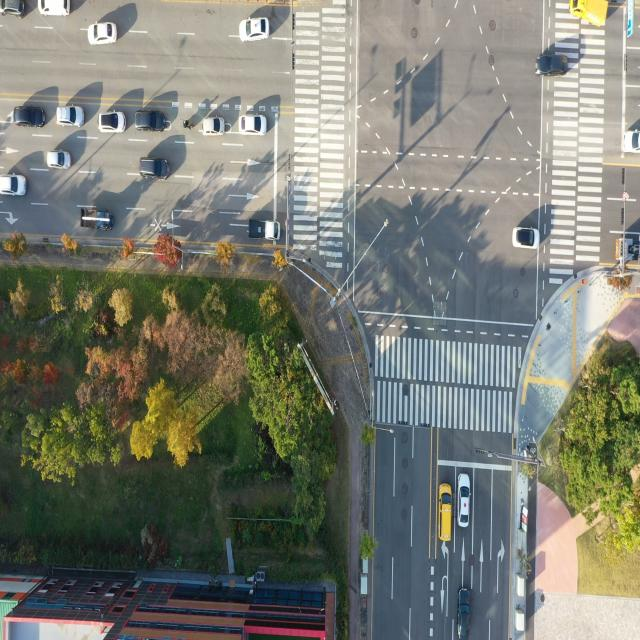car: (434, 482, 454, 542), (512, 224, 542, 252), (457, 473, 472, 528), (134, 109, 166, 134), (456, 587, 471, 639), (15, 104, 46, 129), (139, 157, 169, 182), (536, 53, 567, 77), (85, 22, 116, 46), (36, 0, 71, 17), (0, 174, 24, 198), (238, 20, 268, 39), (58, 105, 84, 126), (100, 111, 125, 132), (240, 114, 266, 134), (1, 0, 27, 19), (623, 127, 640, 153), (202, 119, 226, 137), (49, 150, 71, 169)
small_truck: (569, 0, 609, 28), (248, 215, 281, 242), (81, 207, 114, 230)
